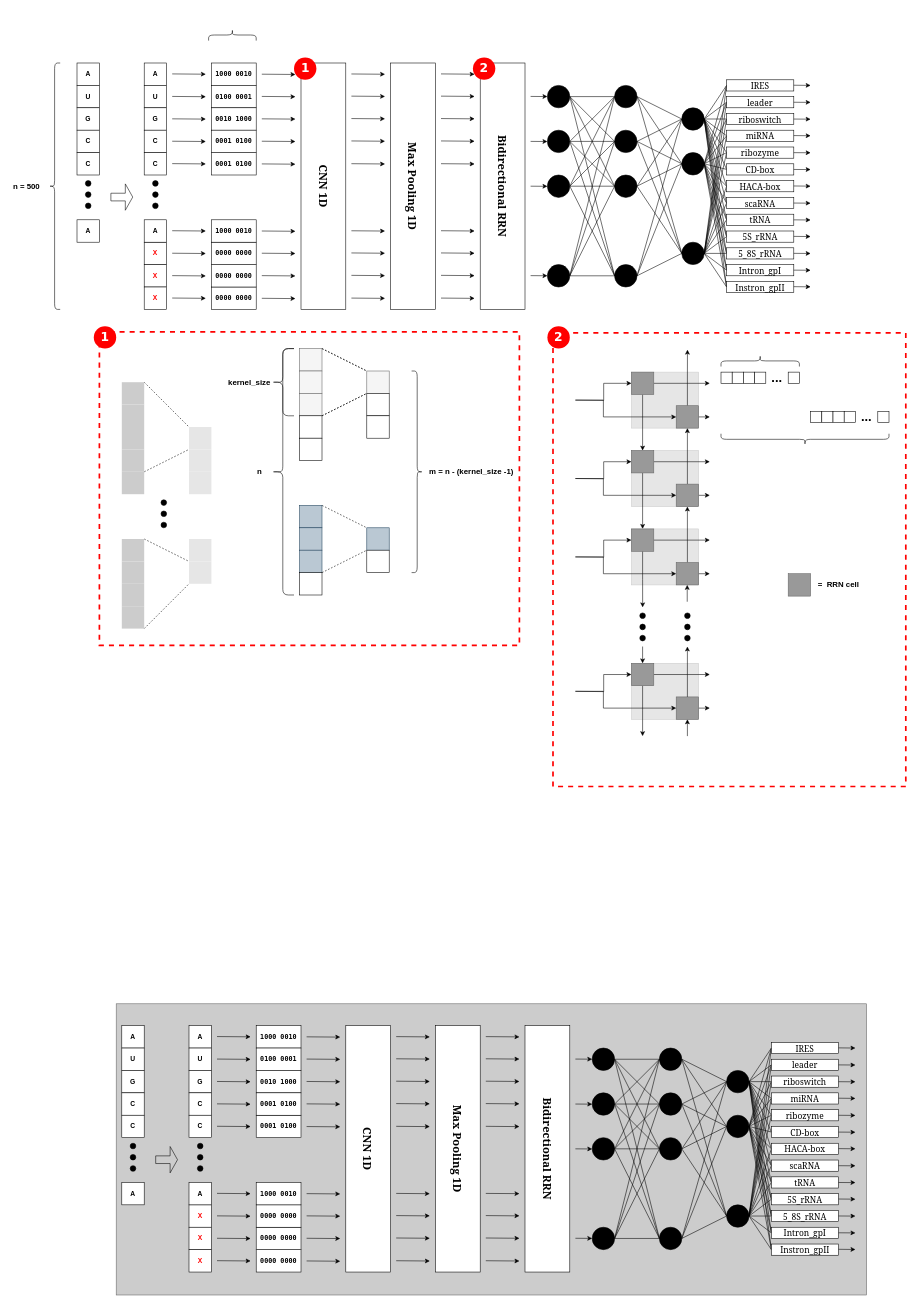
The diagram is 916 pixels wide and 1305 high, and some of its shapes have lost their labels. Here are the shapes that lost their labels. From the top down, the box of each, then its label:
(208, 29, 256, 41): d = 8
(720, 355, 799, 367): RRN_units
(720, 433, 889, 445): 2 x RRN_units
